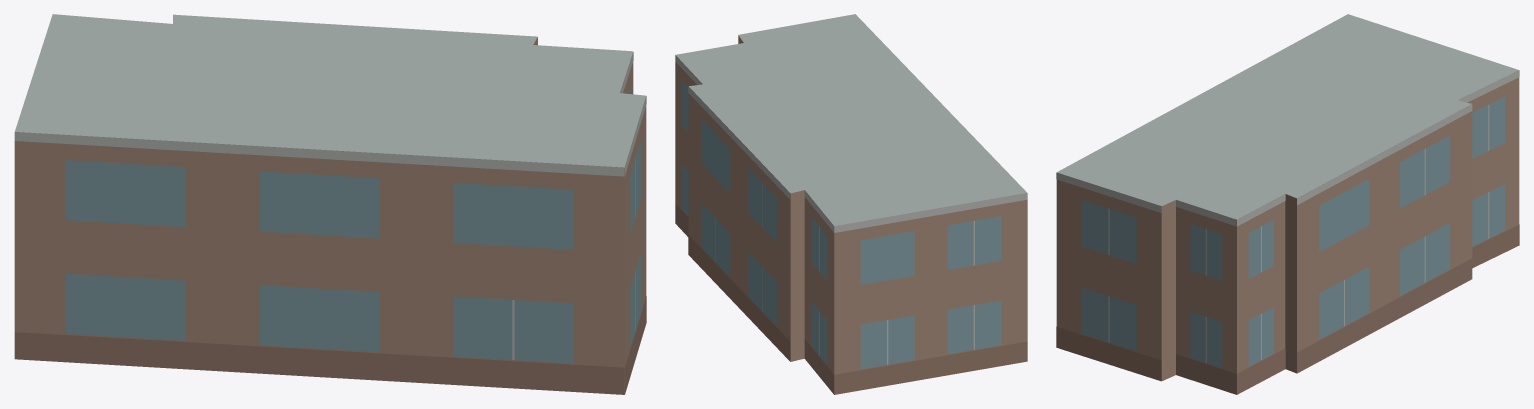
File: survey-upis-33030023.glb
3 views of the same model, side by side, from view 1: azimuth 30°, elevation 25°; view 2: azimuth 150°, elevation 25°; view 3: azimuth 270°, elevation 25° (orthographic). The views are drawn at different scales.
Visible parts, largest first — view 1: survey-upis-33030023.tmp; view 2: survey-upis-33030023.tmp; view 3: survey-upis-33030023.tmp.
Boxes of the visible parts, left/top/right/bottom form: survey-upis-33030023.tmp: left=14, top=14, right=646, bottom=394; survey-upis-33030023.tmp: left=675, top=14, right=1027, bottom=394; survey-upis-33030023.tmp: left=1056, top=14, right=1519, bottom=394.
Bounding box in the file's own units: 15.36 × 6.1 × 14.62.
